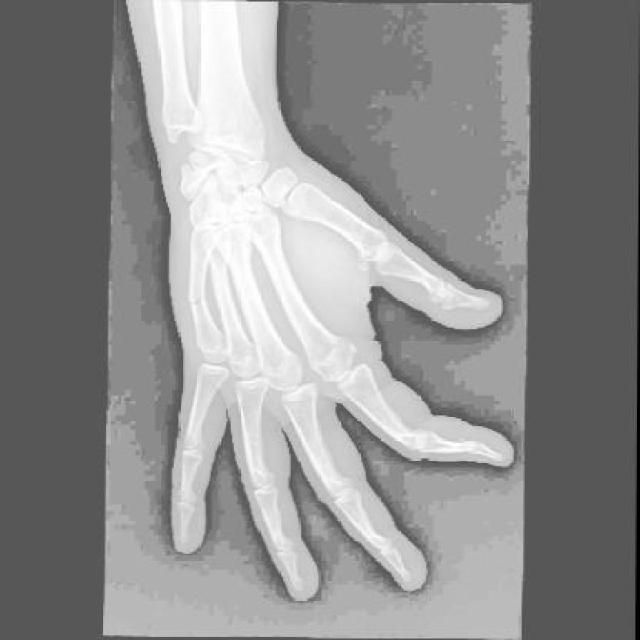Fracture: (188, 291, 213, 311)
